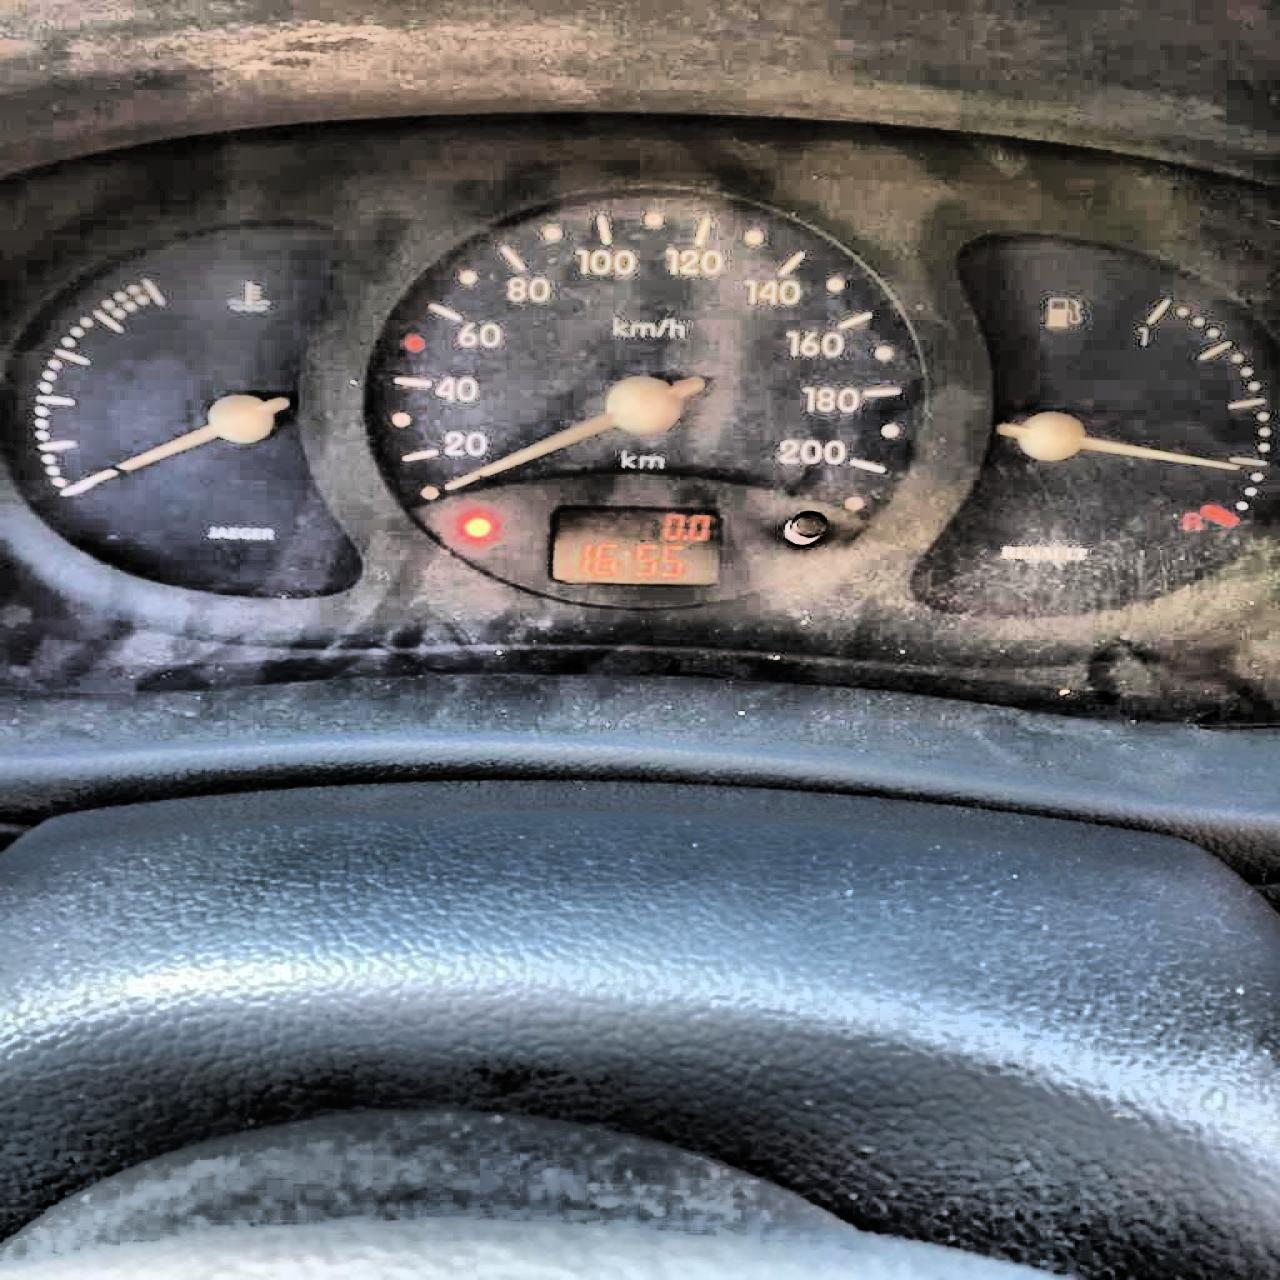-: (682, 532, 688, 539)
0: (660, 510, 683, 542), (688, 511, 712, 540)
1: (577, 542, 592, 576)
5: (629, 542, 659, 577), (660, 542, 683, 578)
6: (592, 542, 617, 577)
X: (618, 547, 629, 565)
odometer: (536, 499, 737, 592)
